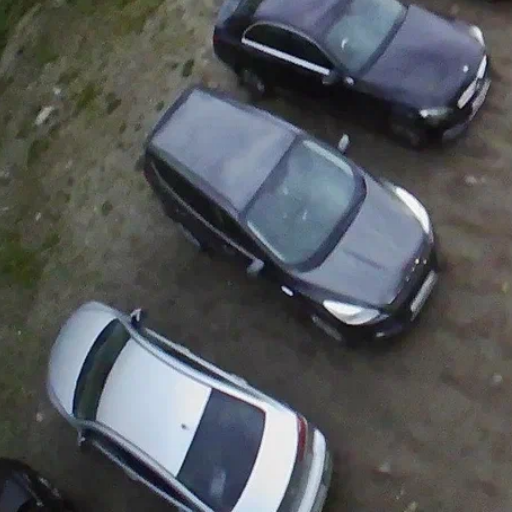Car: (136, 83, 439, 345), (42, 300, 332, 510), (209, 2, 492, 142)
